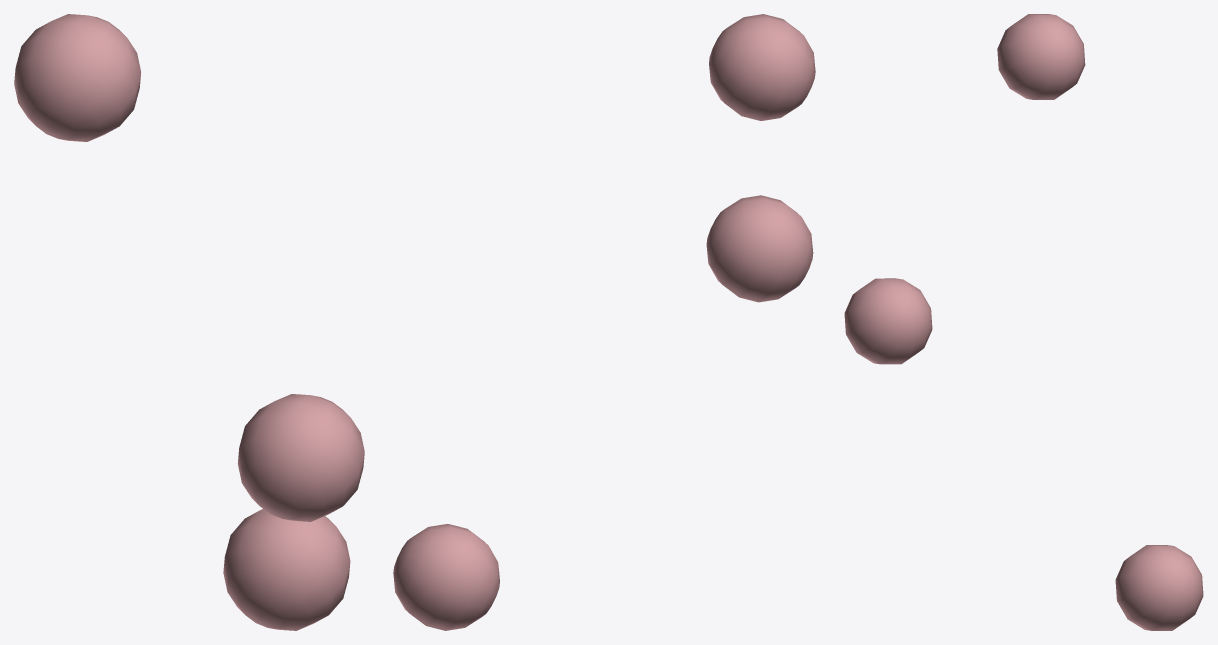
3 views of the same model, side by side, from view 1: azimuth 30°, elevation 25°; view 2: azimuth 150°, elevation 25°; view 3: azimuth 270°, elevation 25° (orthographic). The views are drawn at different scales.
Visible parts, largest first — view 1: ZA_10610962e6b6e37c; view 2: ZA_10610962e6b6e37c; view 3: ZA_10610962e6b6e37c.
Part boxes in pixels (left/top/right/bottom): ZA_10610962e6b6e37c: left=14, top=14, right=364, bottom=630; ZA_10610962e6b6e37c: left=393, top=14, right=815, bottom=630; ZA_10610962e6b6e37c: left=844, top=14, right=1203, bottom=630.
Size of the model in its own units: 0.00942 by 0.0164 by 0.0104.
